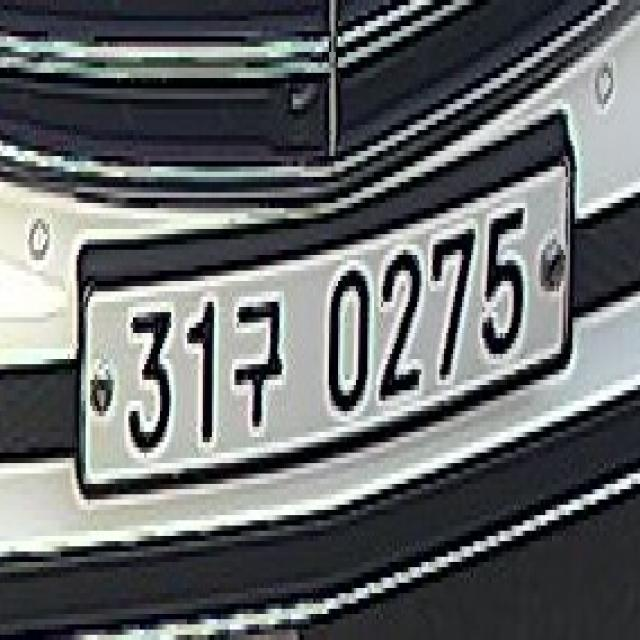0: (324, 265, 370, 411)
1: (184, 291, 218, 453)
2: (376, 250, 422, 406)
3: (124, 302, 176, 458)
5: (482, 208, 525, 364)
7: (426, 219, 478, 385)
gu: (230, 302, 286, 437)
license_plate: (81, 151, 573, 494)
